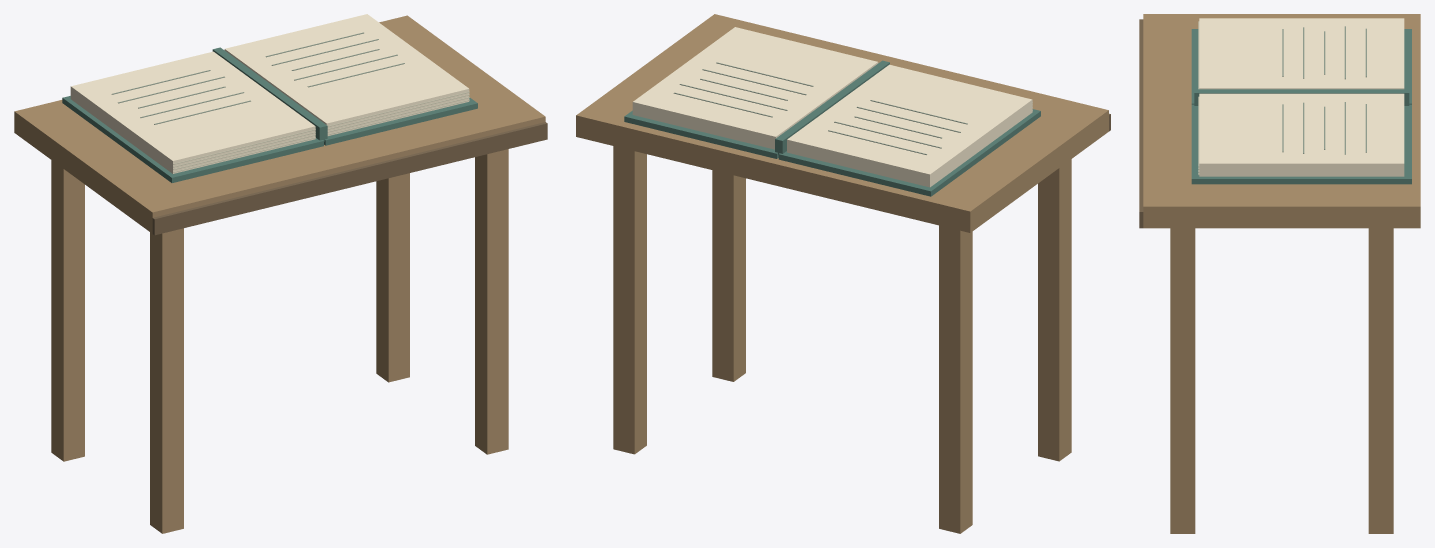
Rendered from proof_desk.glb.
3 renders of one model, left to right at view 1: azimuth 30°, elevation 25°; view 2: azimuth 150°, elevation 25°; view 3: azimuth 270°, elevation 25°, orthographic.
Visible parts, largest first — view 1: Desktop, Page block, Page block.001, Desk leg.001, Desk leg.003, Desk leg, Front edge, Desk leg.002, Book cover, Book cover.001, Book spine; view 2: Desktop, Page block, Page block.001, Desk leg.002, Desk leg, Desk leg.001, Desk leg.003, Book cover, Book cover.001, Book spine; view 3: Desktop, Page block.001, Page block, Desk leg.002, Desk leg.003, Book cover.001, Book spine, Book cover, Front edge.
Boxes of the visible parts, x1,y1,x2,y2 form: Desktop: (14,15,545,233); Page block: (70,51,315,173); Page block.001: (224,14,469,135); Desk leg.001: (150,228,183,533); Desk leg.003: (475,149,508,454); Desk leg: (51,160,84,461); Front edge: (152,122,547,235); Desk leg.002: (376,173,409,382); Book cover: (62,96,323,182); Book cover.001: (324,98,477,145); Book spine: (212,47,327,141); Desktop: (576,14,1108,232); Page block: (787,64,1032,187); Page block.001: (632,27,878,149); Desk leg.002: (613,146,646,454); Desk leg: (939,225,972,533); Desk leg.001: (1038,159,1071,461); Desk leg.003: (712,170,745,381); Book cover: (778,109,1040,196); Book cover.001: (624,110,778,158); Book spine: (775,60,889,154); Desktop: (1143,14,1420,228); Page block.001: (1199,93,1404,176); Page block: (1199,18,1404,89); Desk leg.002: (1368,228,1393,533); Desk leg.003: (1170,228,1195,533); Book cover.001: (1191,104,1411,184); Book spine: (1194,89,1409,105); Book cover: (1191,29,1411,104); Front edge: (1139,19,1143,228).
Size of the model in its own units: 0.46 by 0.3993 by 0.284.
